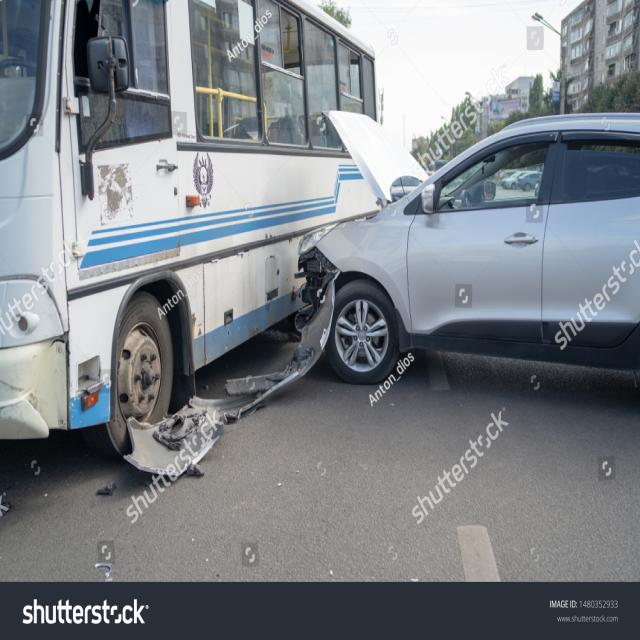Accident: (0, 4, 640, 463)
